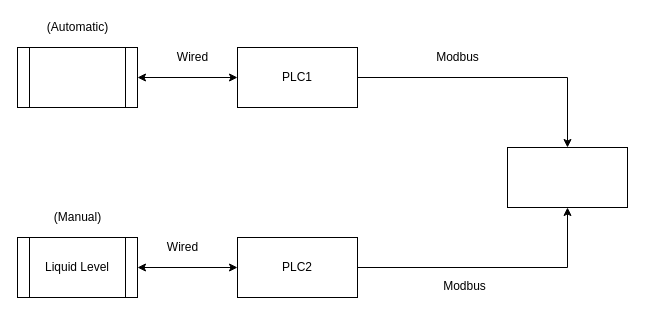
This 645x315 diagram has some shape labels left out. The centre of each missing label's shape, as x and y in pixels:
HMI: the point at 567,177
Temperature Sensor: the point at 77,77
